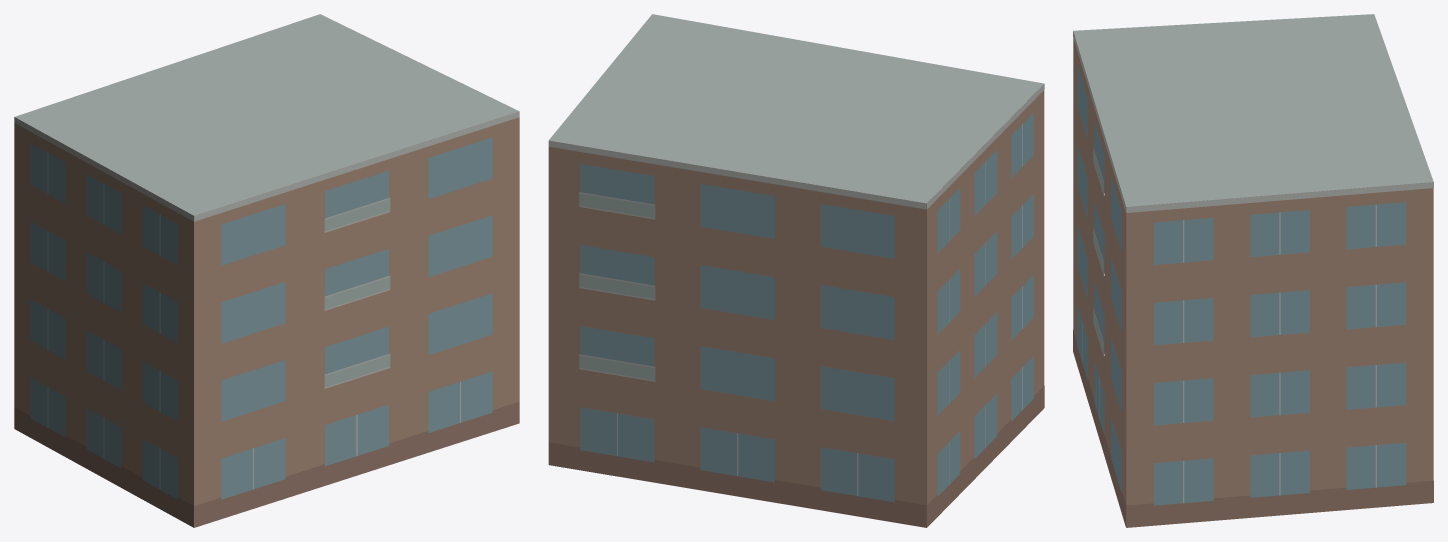
File: survey-upis-32746721.glb
The picture shows the model from 3 angles, left to right: view 1: azimuth 30°, elevation 25°; view 2: azimuth 150°, elevation 25°; view 3: azimuth 270°, elevation 25°; orthographic projection. The views are drawn at different scales.
Parts seen in each view (by area): view 1: survey-upis-32746721.tmp; view 2: survey-upis-32746721.tmp; view 3: survey-upis-32746721.tmp.
Boxes of the visible parts, x1,y1,x2,y2 form: survey-upis-32746721.tmp: [14, 14, 519, 527]; survey-upis-32746721.tmp: [548, 14, 1044, 527]; survey-upis-32746721.tmp: [1073, 14, 1433, 527].
Size of the model in its own units: 16.78 by 13 by 13.25.
